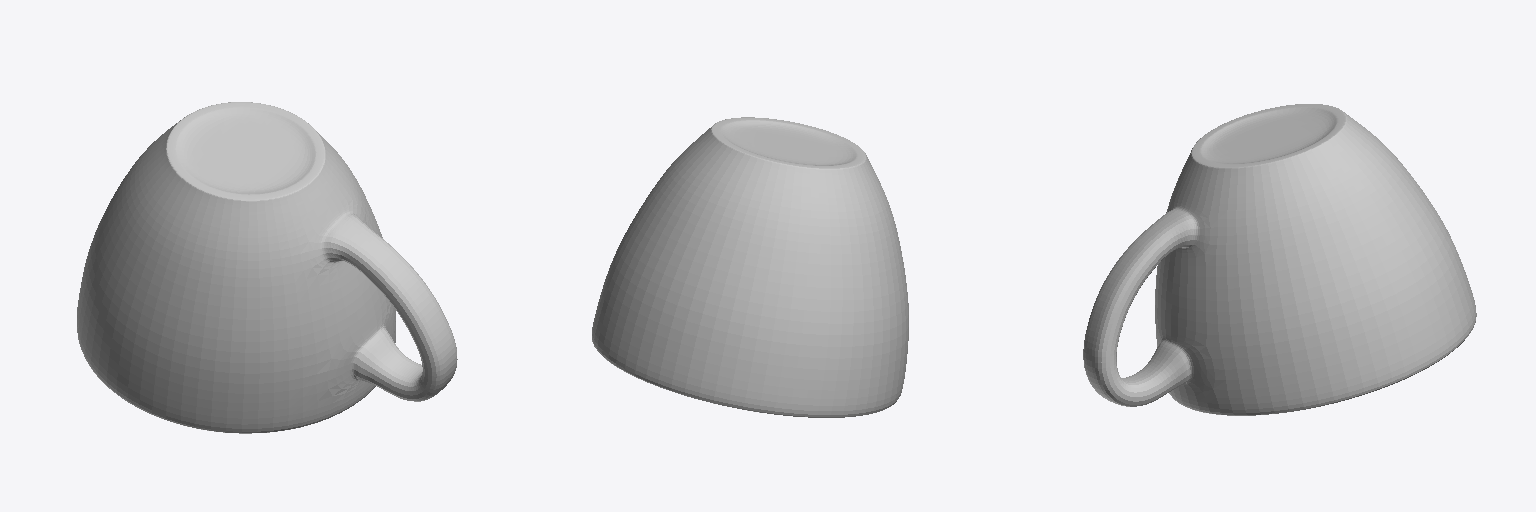
Rendered from coffee_cup.obj.
3 views of the same model, side by side, from view 1: azimuth 30°, elevation 25°; view 2: azimuth 150°, elevation 25°; view 3: azimuth 270°, elevation 25° (orthographic).
Parts seen in each view (by area): view 1: dynamic; view 2: dynamic; view 3: dynamic.
Part boxes in pixels (x1,y1,x2,y2): dynamic: (77, 102, 457, 433); dynamic: (592, 117, 908, 417); dynamic: (1083, 104, 1476, 415).
Size of the model in its own units: 71.38 by 64.35 by 88.47.